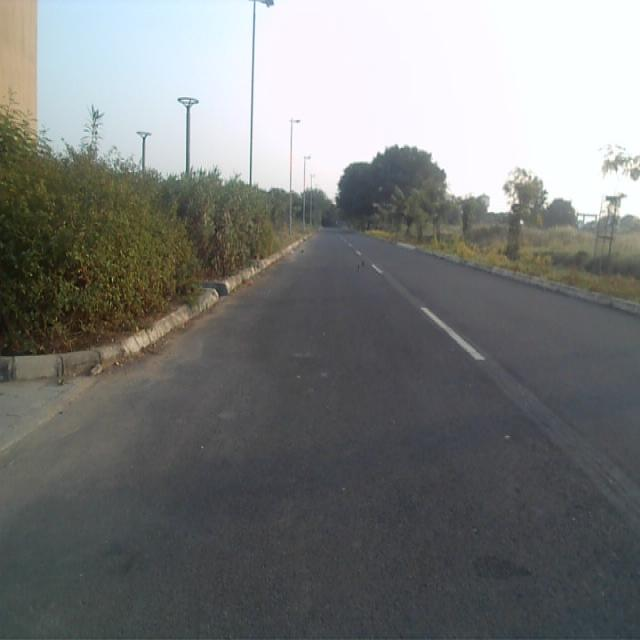lane: (0, 234, 640, 640)
